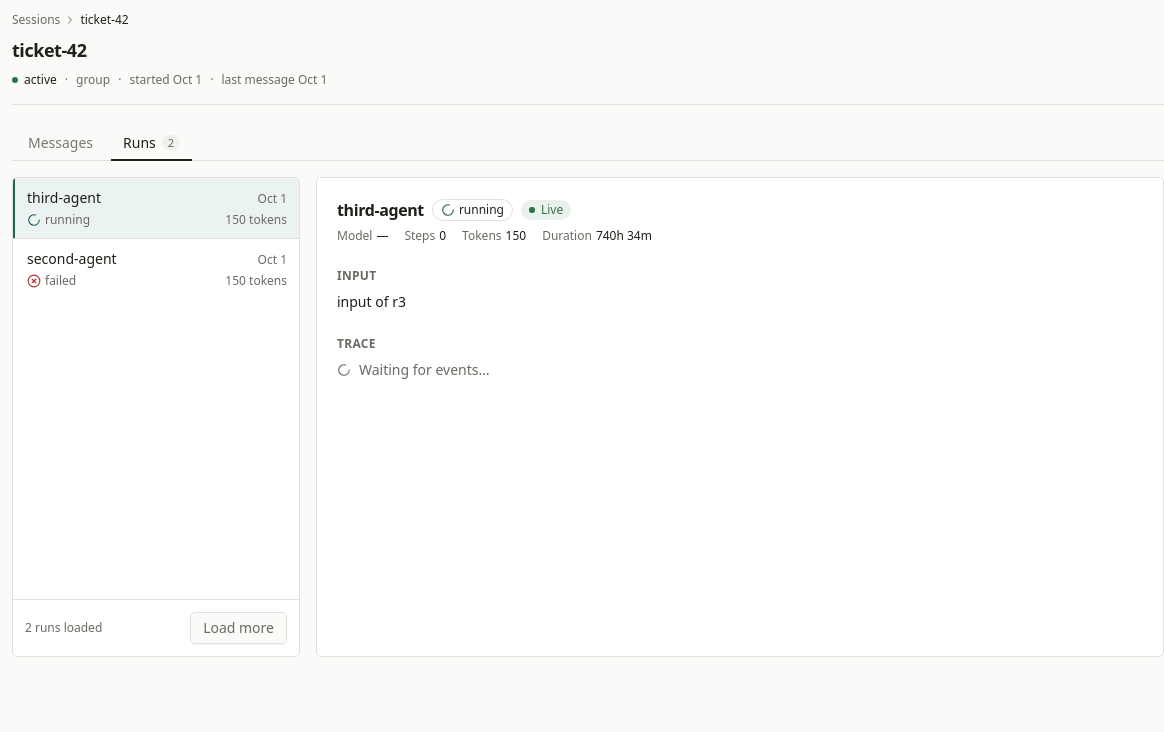
Test: the runs › lists the session's runs newest first, and loads older ones with the cursor
expect the heading "ticket-42" is shown: met, box [12,38,86,62]
expect the navigation bar "runs" is shown: met, box [12,177,300,657]
Click the button "Load more": (239, 628) [190,612,287,644]
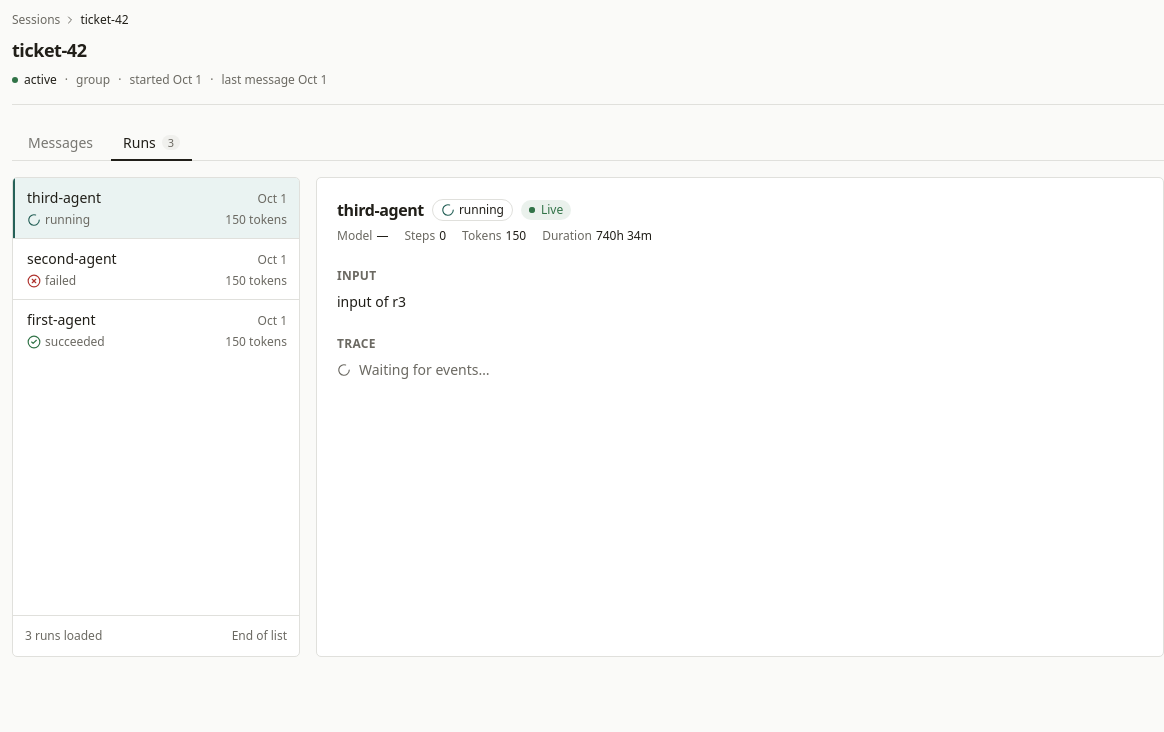
expect the text "first-agent" is shown: met, box [27,310,96,330]
